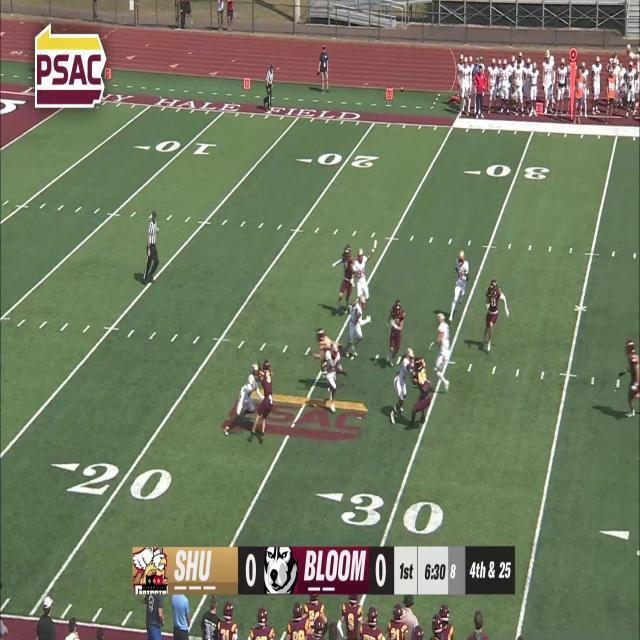football: (322, 364, 328, 376)
